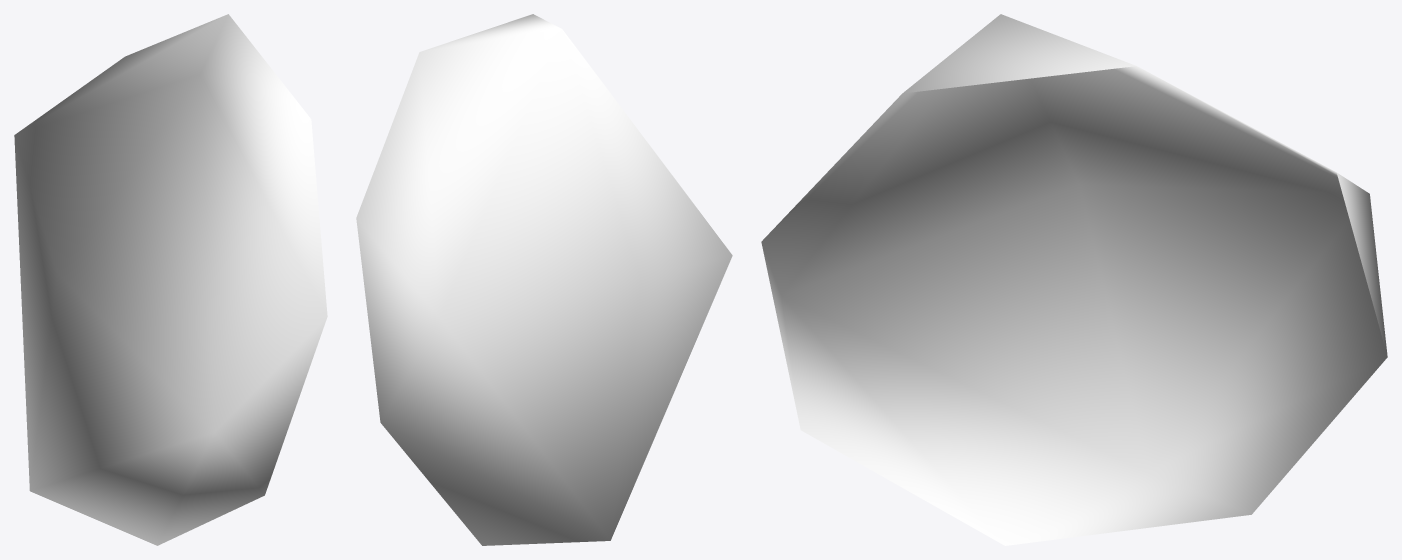
3 renders of one model, left to right at view 1: azimuth 30°, elevation 25°; view 2: azimuth 150°, elevation 25°; view 3: azimuth 270°, elevation 25°, orthographic. The views are drawn at different scales.
Bounding box in the file's own units: 0.0341 × 0.0775 × 0.0791.
Materials: 1 (1 with a texture image).
